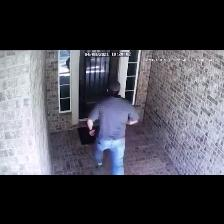person: (87, 82, 139, 174)
